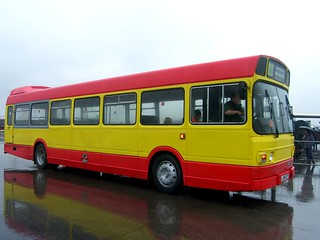bus: (3, 54, 295, 192)
